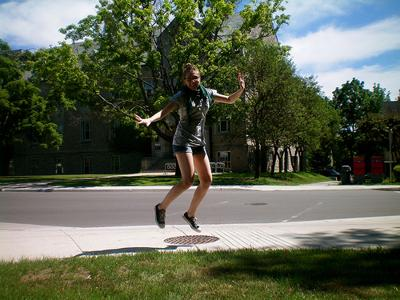person: (131, 62, 248, 234)
